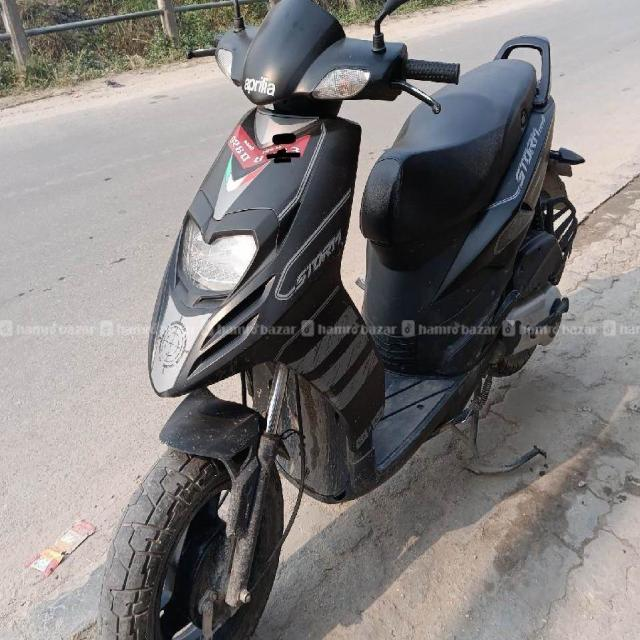License-plate: (217, 118, 313, 185)
